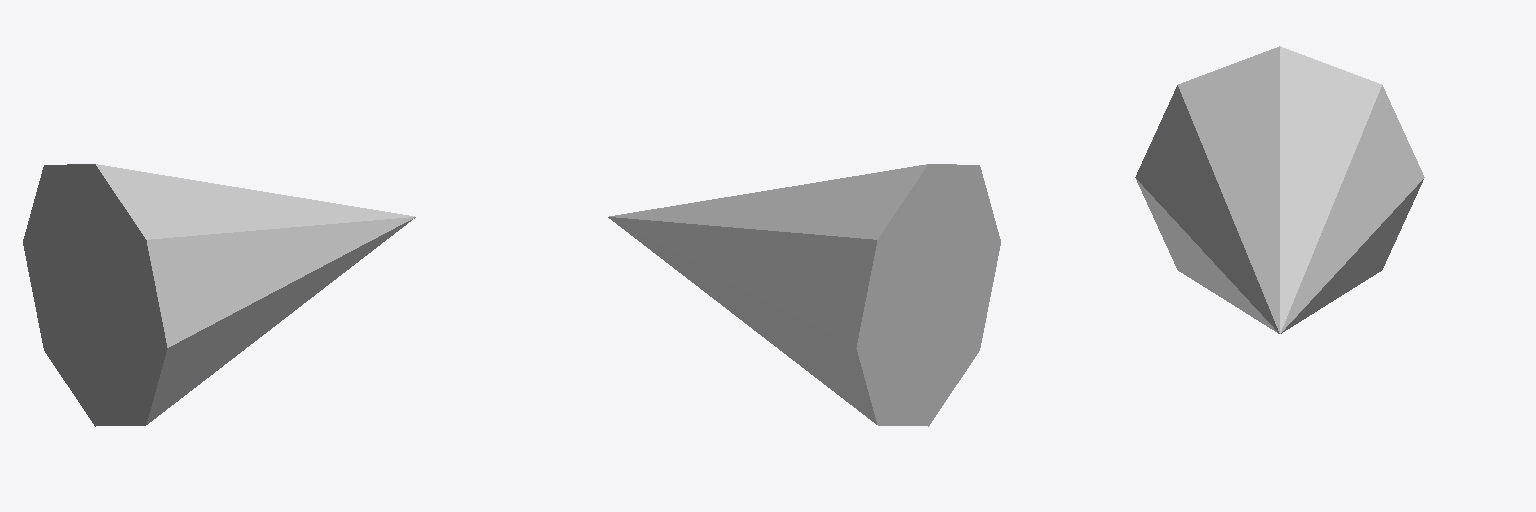
Rendered from arrowHead.obj.
3 views of the same model, side by side, from view 1: azimuth 30°, elevation 25°; view 2: azimuth 150°, elevation 25°; view 3: azimuth 270°, elevation 25° (orthographic).
Parts seen in each view (by area): view 1: Cone; view 2: Cone; view 3: Cone.
Boxes of the visible parts, x1,y1,x2,y2 form: Cone: [23, 164, 415, 426]; Cone: [608, 164, 1000, 426]; Cone: [1135, 46, 1424, 333].
Size of the model in its own units: 0.1365 by 0.1065 by 0.1065.